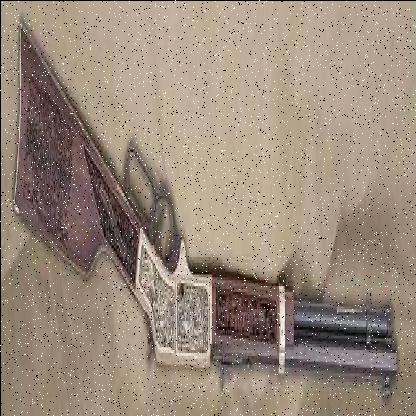rifle: (4, 6, 401, 407)
